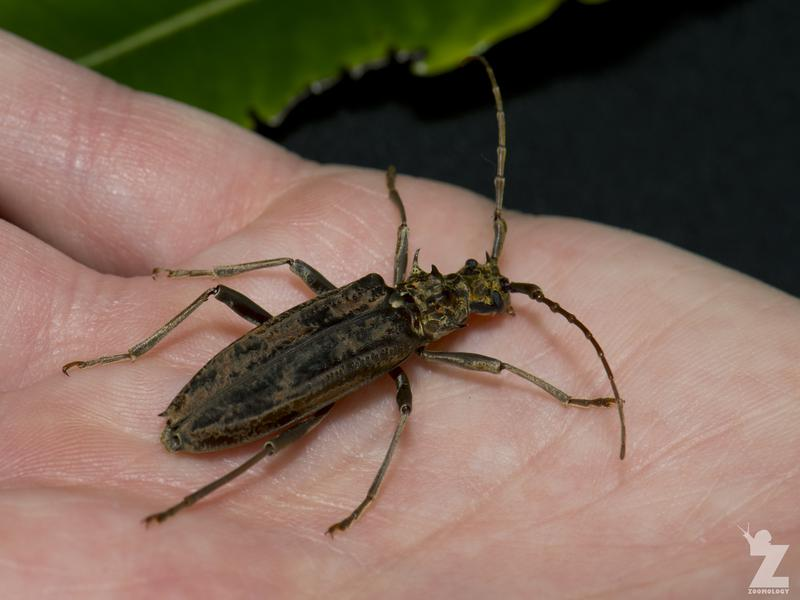Spiny_beetle: (123, 219, 563, 519)
